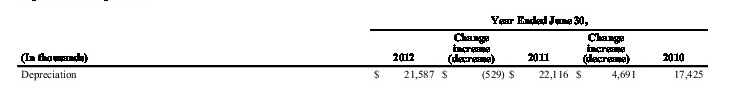table: (0, 0, 747, 104)
